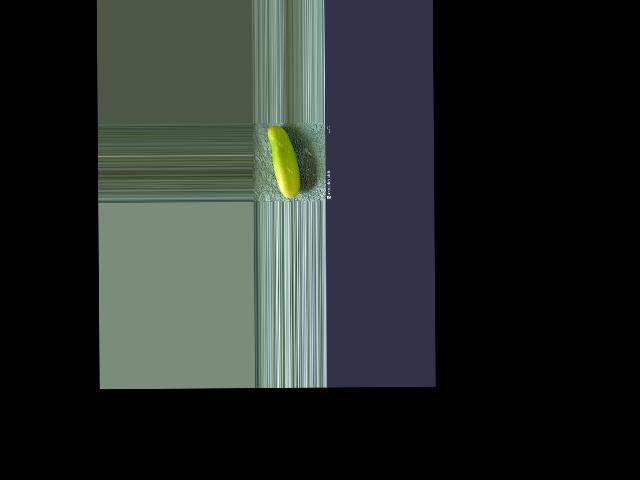cucumber: (267, 125, 300, 197)
